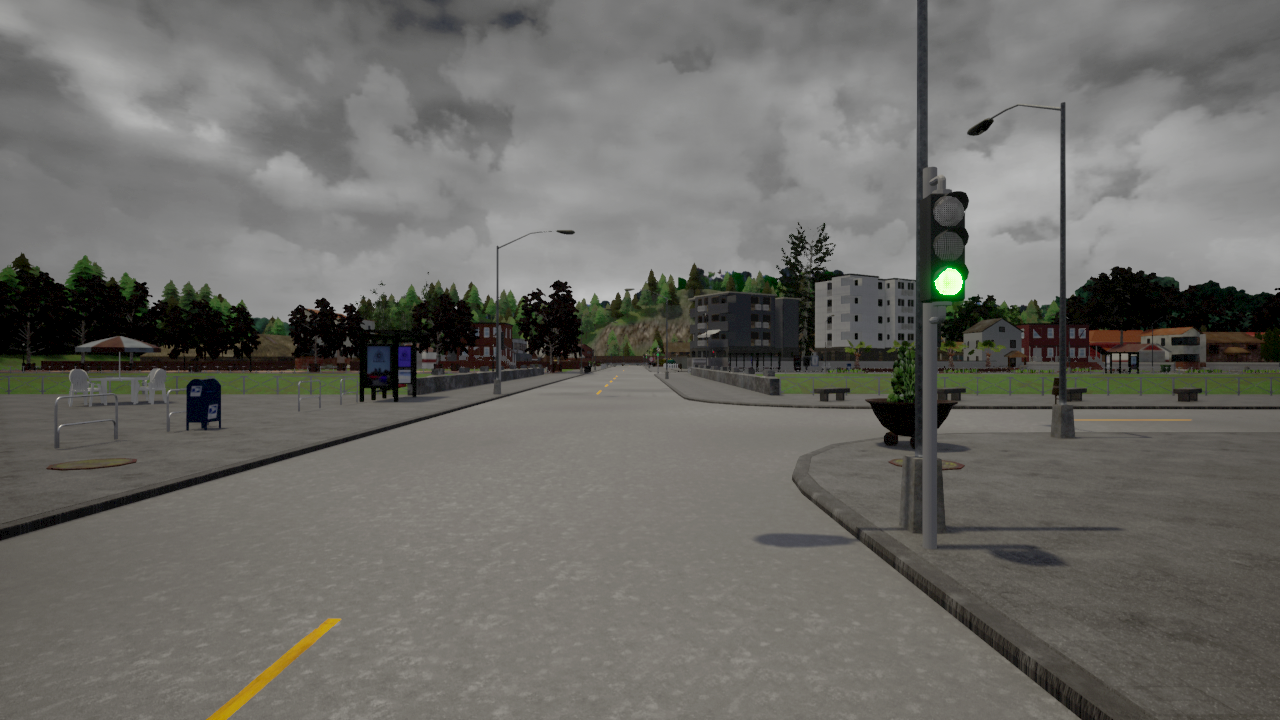green: (919, 188, 967, 299)
